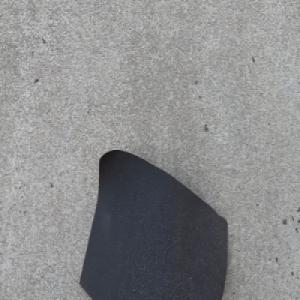PaintChip: (79, 147, 230, 300)
